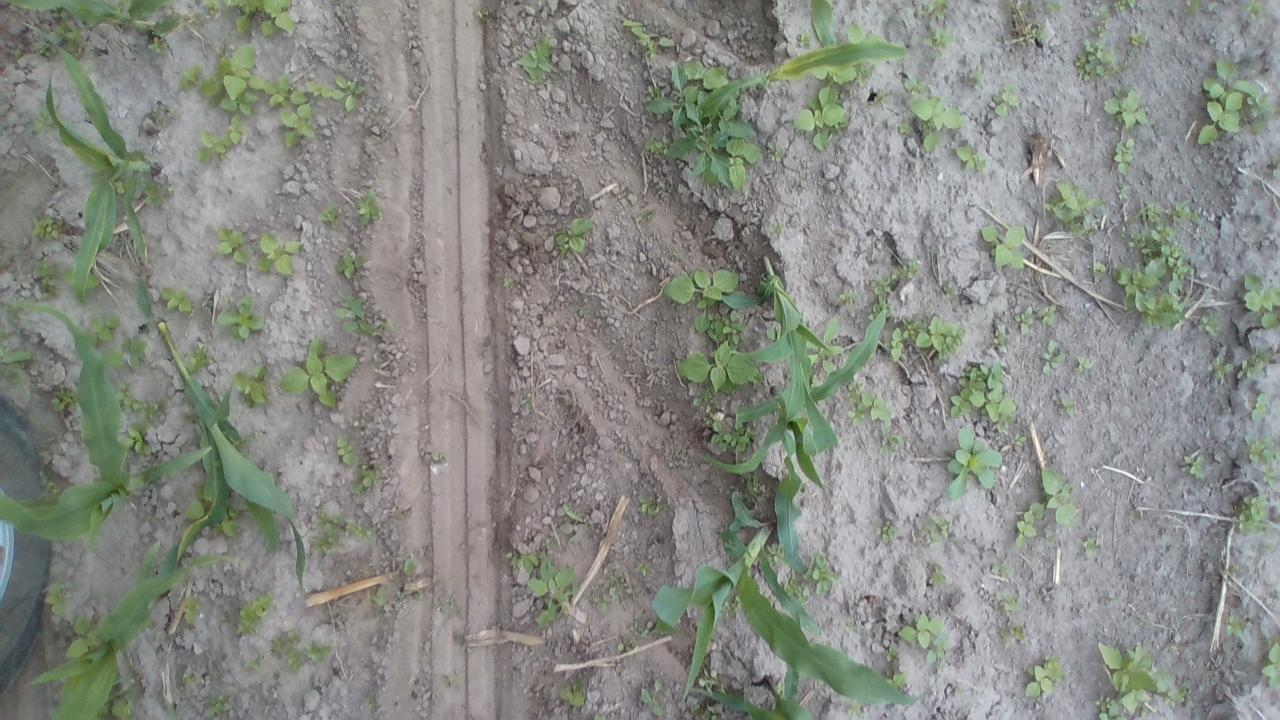Maize: (654, 486, 940, 710), (0, 300, 213, 550), (23, 24, 170, 316), (154, 318, 309, 588), (23, 540, 241, 720), (694, 305, 888, 494), (696, 0, 906, 120), (730, 255, 839, 454), (691, 669, 818, 720), (11, 0, 178, 35)
Weeds: (202, 47, 364, 164), (649, 53, 759, 192), (1192, 49, 1274, 147), (679, 306, 770, 390), (1096, 642, 1184, 712), (280, 337, 358, 408), (897, 75, 965, 154), (661, 264, 738, 333), (1126, 195, 1191, 274), (1114, 253, 1185, 324), (949, 358, 1019, 422), (948, 428, 1006, 498), (888, 314, 968, 364), (1044, 181, 1112, 233), (798, 83, 848, 151), (897, 610, 951, 663), (841, 376, 890, 430), (998, 0, 1048, 47), (230, 0, 297, 35), (809, 315, 848, 375), (214, 294, 264, 340), (1040, 467, 1082, 520), (255, 231, 302, 278), (982, 224, 1030, 270), (589, 562, 635, 610), (1241, 272, 1280, 328), (800, 549, 844, 595), (103, 336, 157, 372), (0, 332, 38, 382), (622, 16, 680, 48), (336, 294, 378, 336), (1023, 656, 1066, 697), (518, 34, 556, 80), (1104, 86, 1148, 125), (528, 558, 575, 594), (1011, 500, 1046, 548), (1075, 37, 1114, 78), (1010, 300, 1056, 334), (865, 274, 897, 322), (238, 592, 274, 634), (553, 218, 596, 253), (231, 364, 268, 404), (215, 226, 250, 268), (62, 612, 96, 654), (912, 512, 955, 544), (1234, 492, 1270, 530), (1237, 347, 1277, 381), (562, 504, 592, 546), (1246, 432, 1280, 468), (711, 424, 751, 454), (994, 80, 1024, 120), (32, 260, 62, 300), (120, 424, 154, 458), (86, 314, 127, 340), (46, 582, 72, 622), (1259, 640, 1280, 688), (159, 284, 195, 312), (345, 520, 379, 548), (356, 193, 386, 224), (640, 678, 664, 716), (1112, 136, 1137, 172), (1094, 694, 1128, 720), (336, 250, 366, 279), (184, 596, 208, 630), (34, 473, 66, 498), (686, 698, 722, 720), (816, 66, 860, 84), (956, 143, 984, 171), (33, 216, 61, 244), (270, 628, 298, 656), (1042, 336, 1062, 375), (560, 674, 584, 706), (924, 28, 950, 56), (176, 60, 198, 93), (306, 532, 339, 554), (909, 0, 952, 16), (1092, 6, 1112, 40), (1226, 616, 1252, 642), (223, 507, 245, 537), (118, 384, 143, 410), (1051, 388, 1075, 415), (1251, 392, 1274, 420), (54, 384, 78, 410), (538, 597, 560, 625), (108, 698, 136, 720), (872, 523, 903, 542), (1195, 315, 1224, 335), (692, 390, 718, 412), (512, 552, 542, 571), (56, 22, 84, 42), (994, 594, 1025, 612), (143, 401, 165, 426), (1184, 454, 1210, 475), (638, 492, 665, 512), (784, 574, 808, 596), (359, 464, 383, 486), (32, 102, 53, 127), (764, 542, 784, 568), (746, 476, 766, 501), (141, 184, 163, 206), (1210, 357, 1233, 378), (880, 432, 904, 452), (337, 436, 352, 468), (699, 667, 721, 688), (438, 597, 463, 615), (870, 86, 890, 108), (988, 330, 1008, 352), (966, 70, 986, 92), (192, 344, 212, 366), (148, 38, 170, 58), (1127, 27, 1151, 45), (182, 502, 209, 518), (306, 642, 330, 660), (1246, 0, 1266, 20), (209, 694, 227, 715), (926, 564, 948, 581), (767, 141, 783, 164), (901, 258, 924, 274), (859, 61, 878, 80), (1084, 538, 1102, 558), (1006, 431, 1024, 451), (1079, 355, 1097, 375), (841, 290, 859, 310), (322, 208, 346, 223), (198, 2, 222, 17), (285, 648, 303, 668), (886, 670, 908, 686), (372, 586, 388, 608), (796, 31, 816, 48), (637, 561, 657, 578), (1092, 262, 1108, 282), (36, 40, 56, 56), (315, 510, 336, 524), (884, 646, 901, 663), (401, 557, 418, 573), (1262, 470, 1280, 485), (649, 138, 662, 158), (721, 601, 740, 614), (630, 621, 646, 636), (846, 24, 858, 44), (382, 320, 399, 334), (5, 306, 22, 320), (945, 283, 961, 297), (772, 218, 786, 234), (1011, 626, 1026, 640), (847, 702, 864, 714), (1187, 0, 1200, 14), (1112, 0, 1138, 7), (1115, 183, 1131, 194), (1048, 0, 1062, 12), (114, 182, 125, 197), (182, 674, 195, 684), (704, 417, 714, 428), (592, 714, 607, 720)
